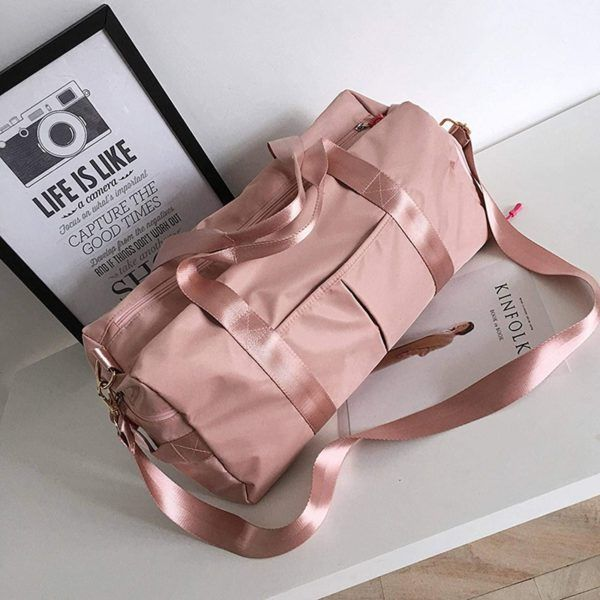nylon: (80, 87, 600, 563)
